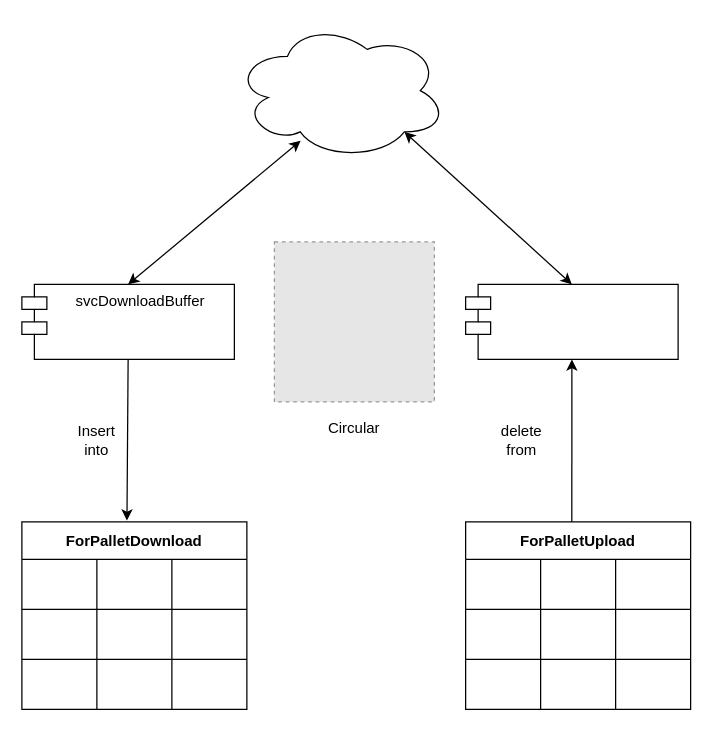
This 713x731 diagram has some shape labels left out. Grey dashed boxes stand in for pictures. Each missing label, with the centre of its shape:
"svcUploadBuffer" goes at [571,321].
"Web Service" goes at [340,90].
